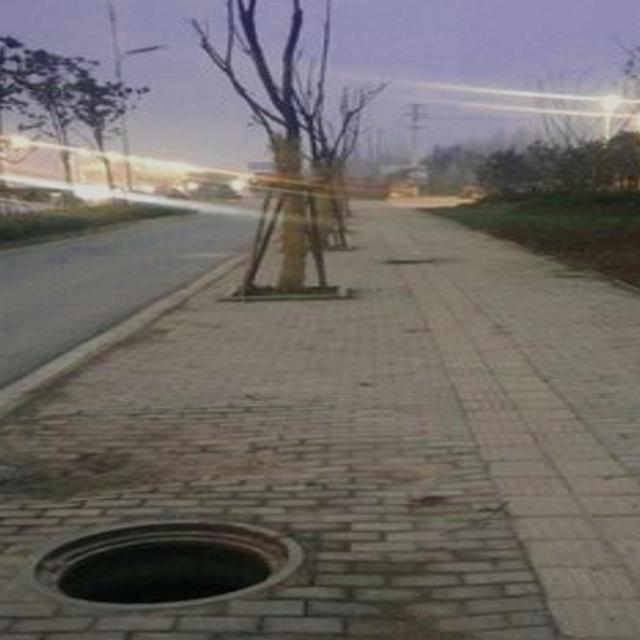lose: (0, 500, 340, 632)
